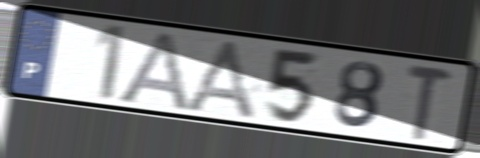1: (93, 22, 127, 103)
5: (259, 46, 324, 126)
8: (332, 58, 387, 130)
A: (178, 38, 261, 123), (111, 28, 193, 114)
T: (404, 61, 456, 143)
